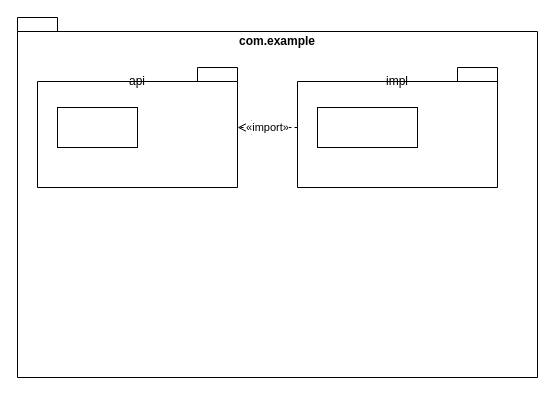
Image size: 555x395. Some labels were removed from this diagram. The shapes that lost their labels are listed below. From the top down, each one's centre as x and y in pixels, then its label:
(x=97, y=127): Service
(x=367, y=127): ServiceImpl
